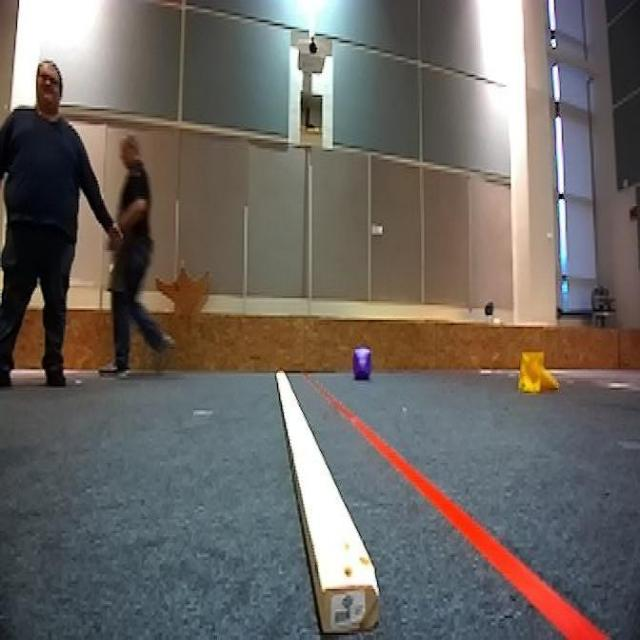frc_cone: (515, 351, 558, 393)
frc_cube: (352, 347, 376, 383)
